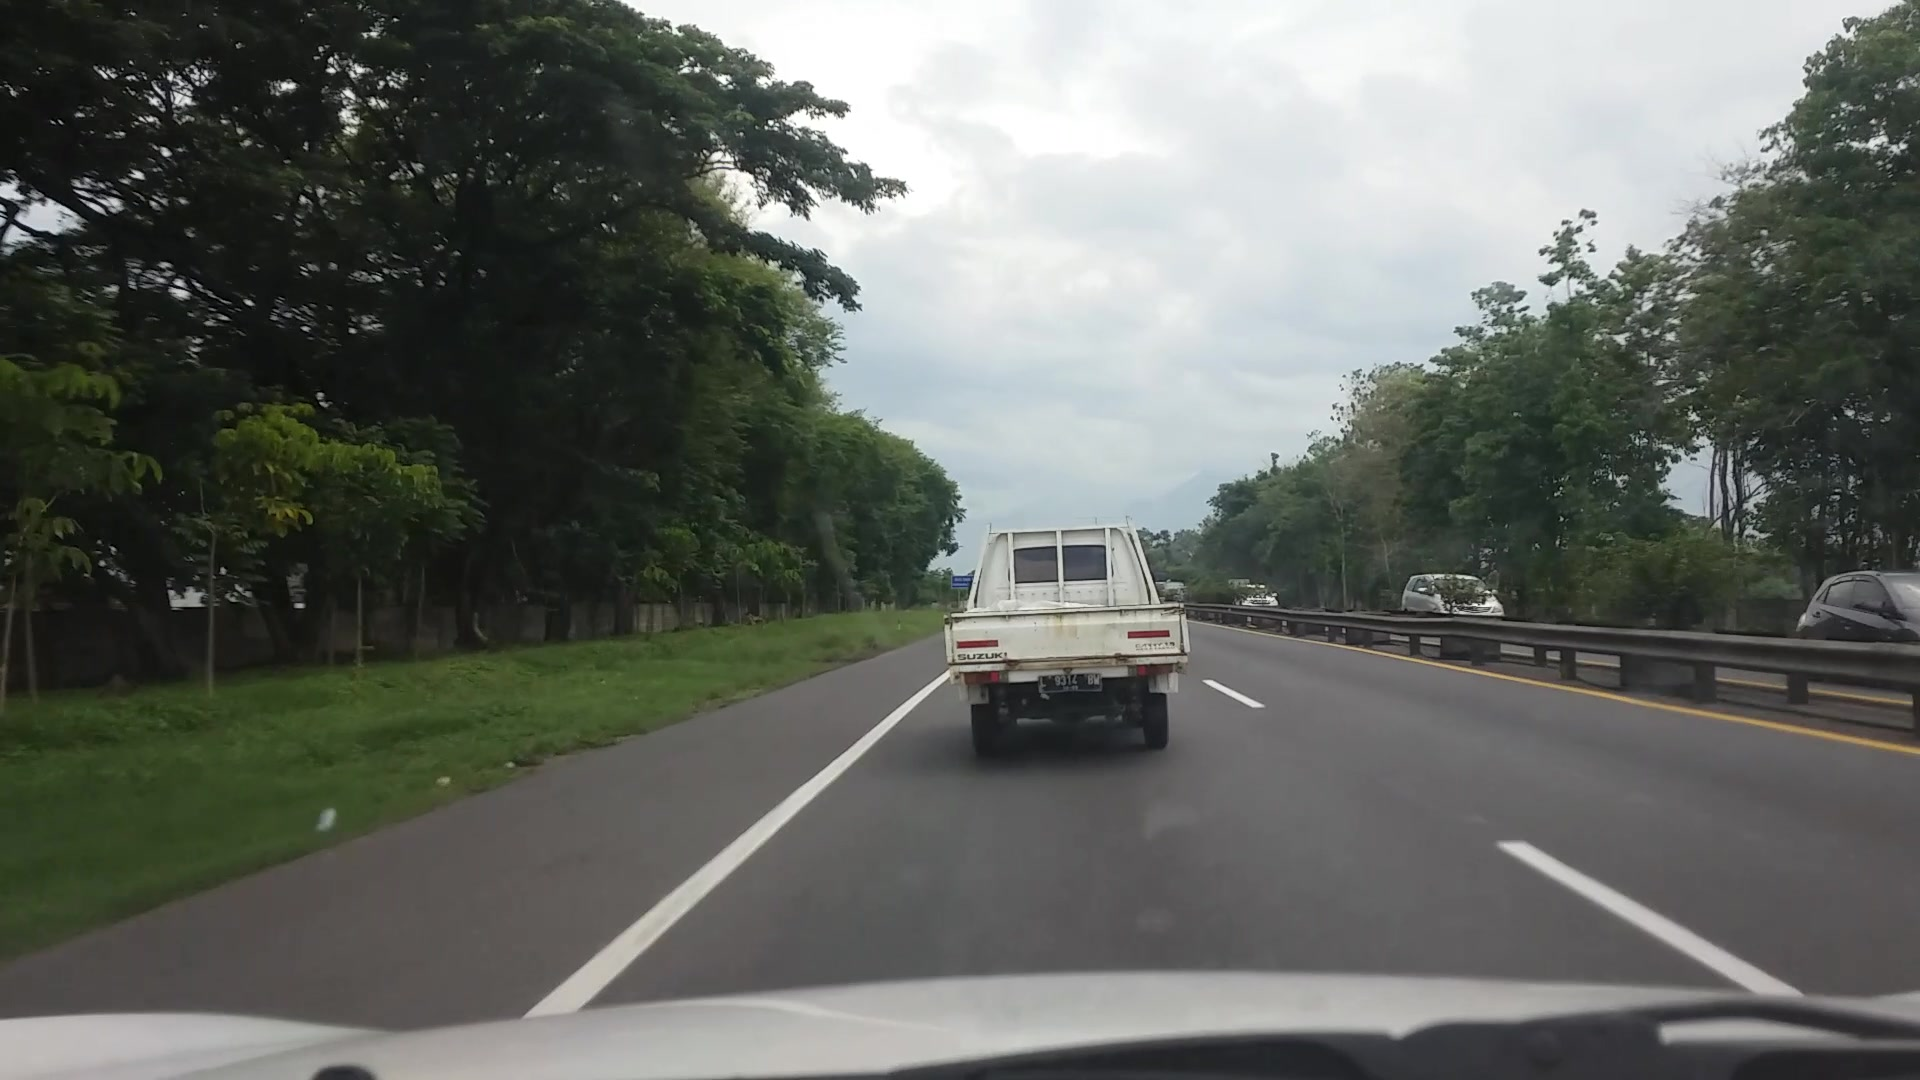plate_positive: (1038, 673, 1102, 692)
